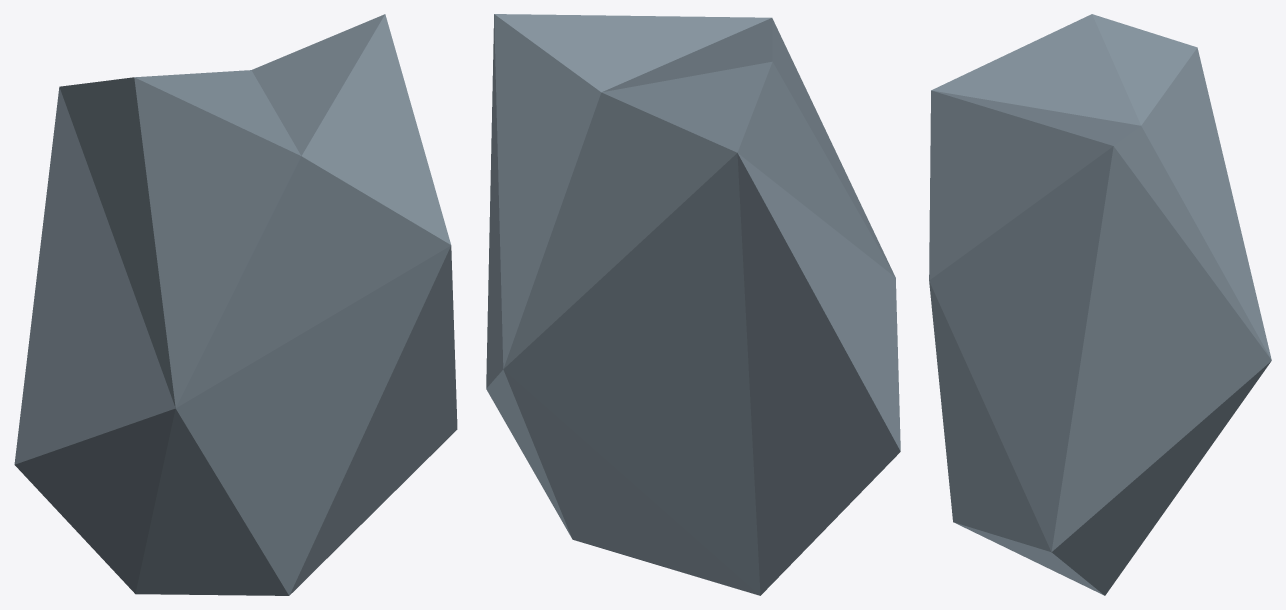
Rendered from Rock_01_LOD2.fbx.
3 views of the same model, side by side, from view 1: azimuth 30°, elevation 25°; view 2: azimuth 150°, elevation 25°; view 3: azimuth 270°, elevation 25° (orthographic). The views are drawn at different scales.
Visible parts, largest first — view 1: Rock_01_LOD2; view 2: Rock_01_LOD2; view 3: Rock_01_LOD2.
Part boxes in pixels (x1,y1,x2,y2): Rock_01_LOD2: [14, 14, 457, 595]; Rock_01_LOD2: [486, 14, 900, 595]; Rock_01_LOD2: [929, 14, 1271, 595].
Size of the model in its own units: 221 by 260 by 160.
